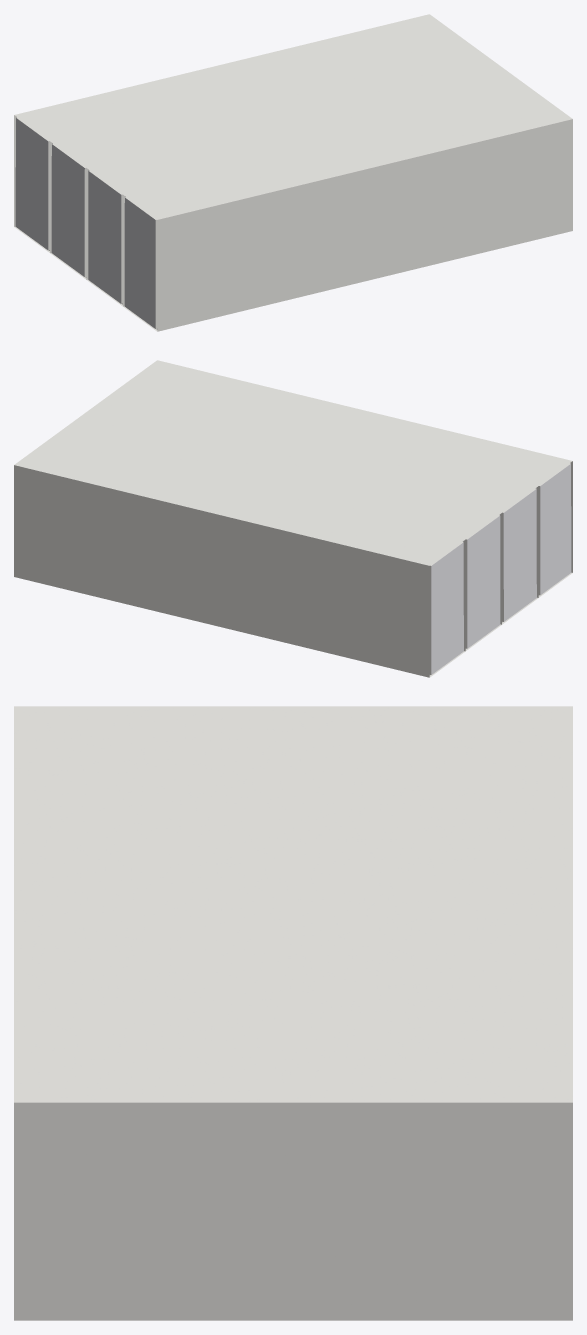
File: duvarlar.fbx
3 views of the same model, one above another, from view 1: azimuth 30°, elevation 25°; view 2: azimuth 150°, elevation 25°; view 3: azimuth 270°, elevation 25° (orthographic). The views are drawn at different scales.
Parts seen in each view (by area): view 1: Cube; view 2: Cube; view 3: Cube.
Part boxes in pixels (<box>): Cube: <box>14,14,572,331</box>; Cube: <box>14,360,572,677</box>; Cube: <box>14,706,572,1320</box>.
Bounding box in the file's own units: 2093 × 541 × 1250.
